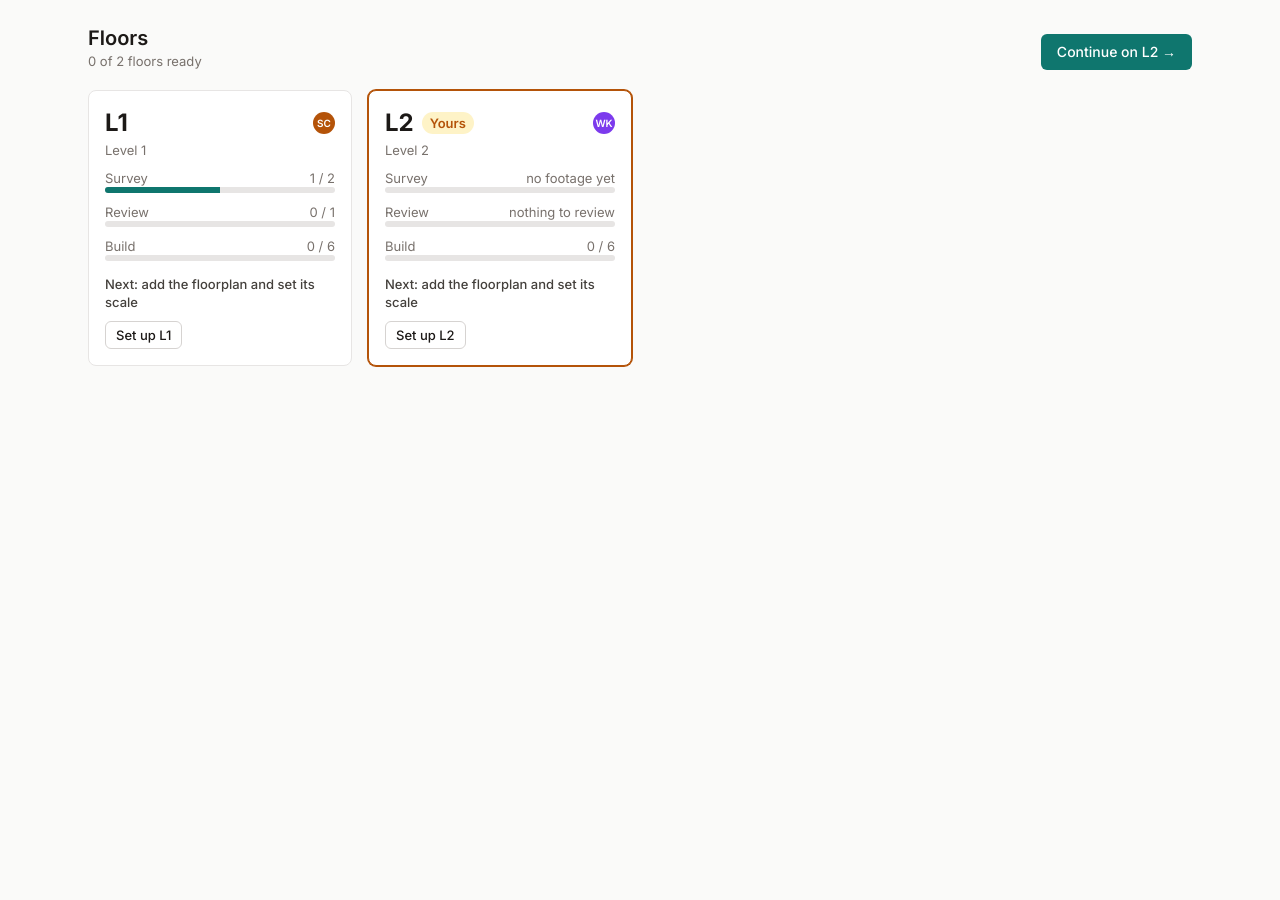
Test: FloorsHome › locks the picker while an owner change is saving, so a quick second tick is not lost
Click the button with aria-label "Owners of L1". click: [324, 123]
box: top-left (313, 112), bottom-right (335, 134)
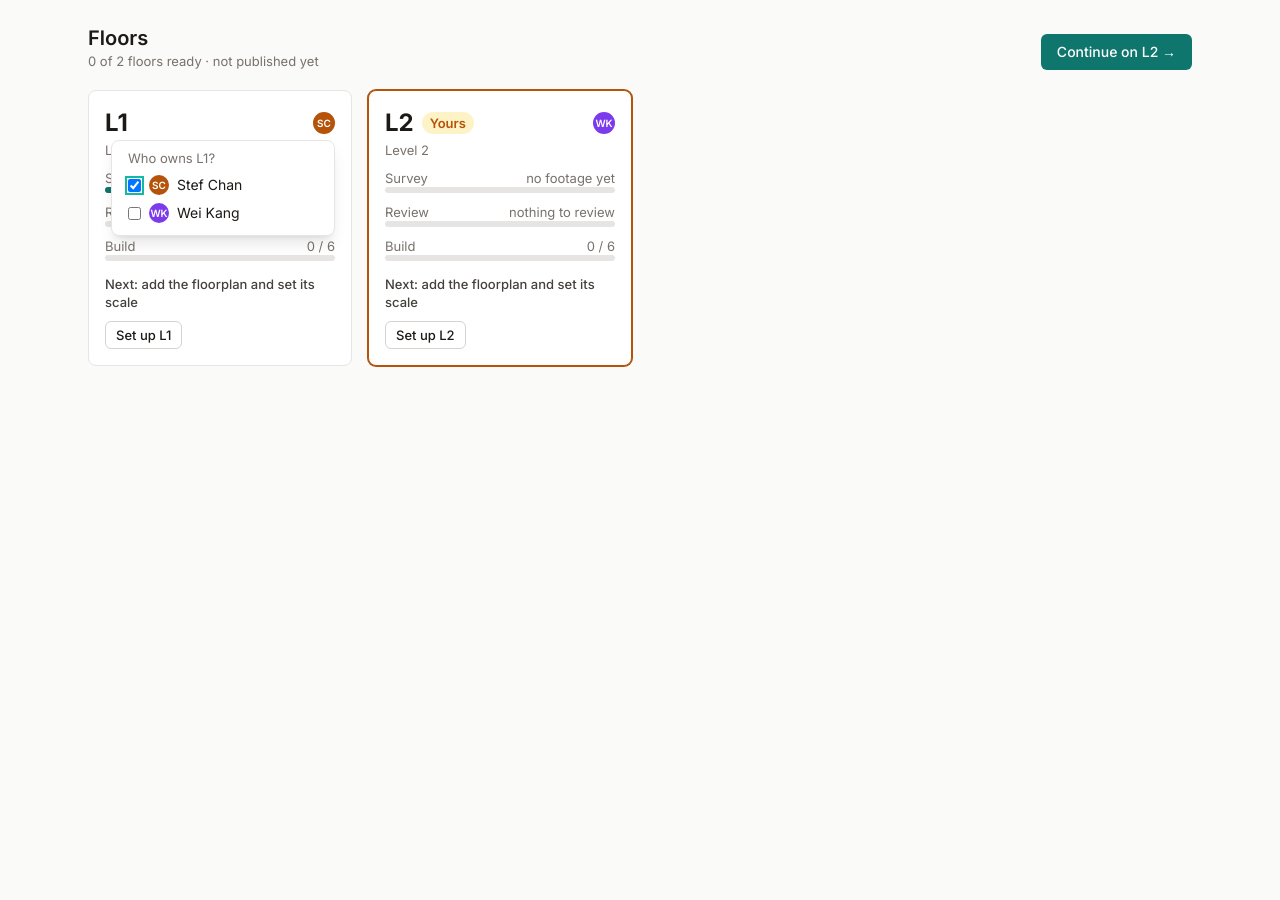
Click the checkbox labelled "Wei Kang". click: [134, 213]
box: top-left (128, 206), bottom-right (141, 220)
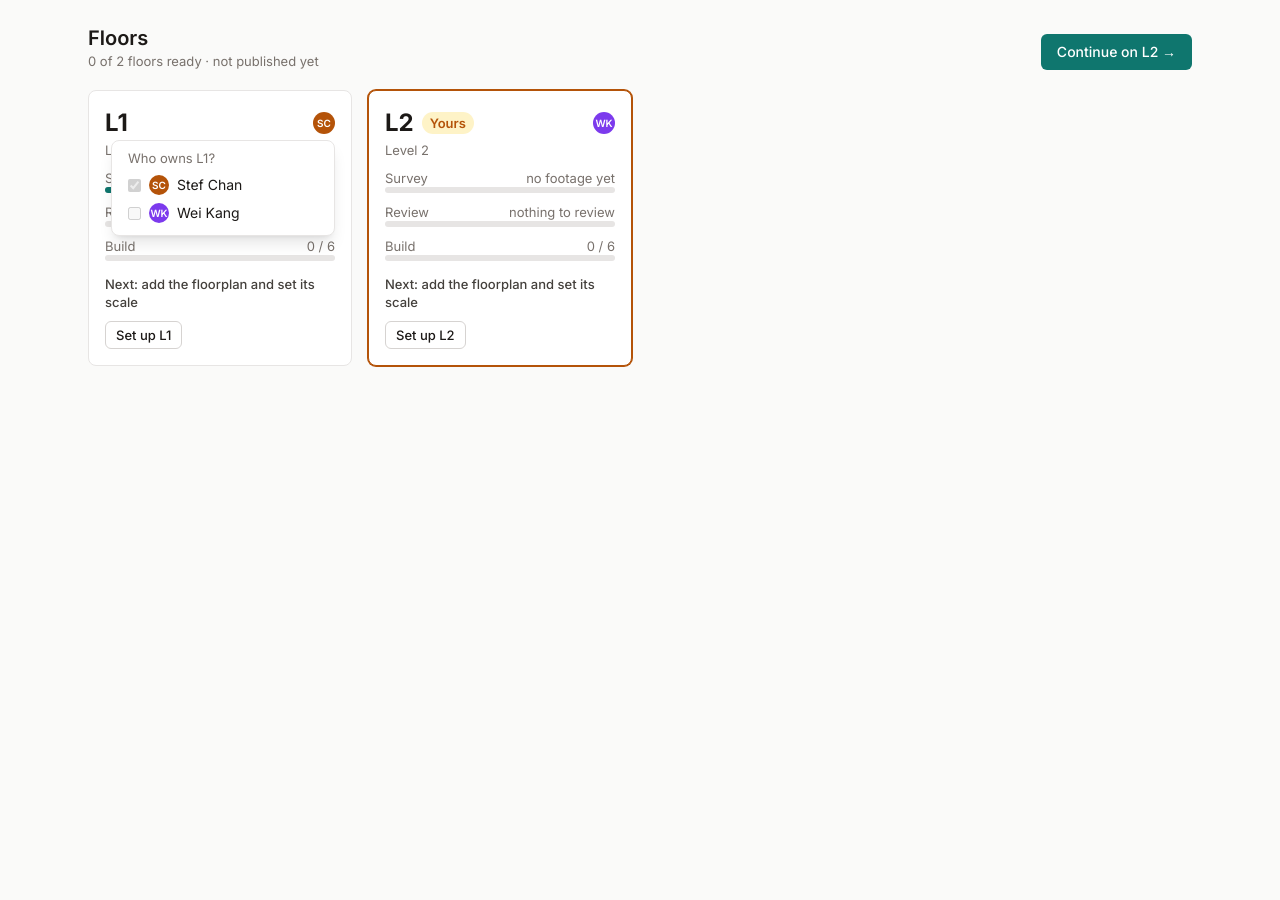
Check: the checkbox labelled "SC Stef Chan" is disabled
Check: the checkbox labelled "WK Wei Kang" is disabled, box top-left (128, 206), bottom-right (141, 220)
Note: ...so a quick second tick does not fire off a second save from stale data.
Click the checkbox labelled "Stef Chan". click: [134, 185]
box: top-left (128, 178), bottom-right (141, 192)
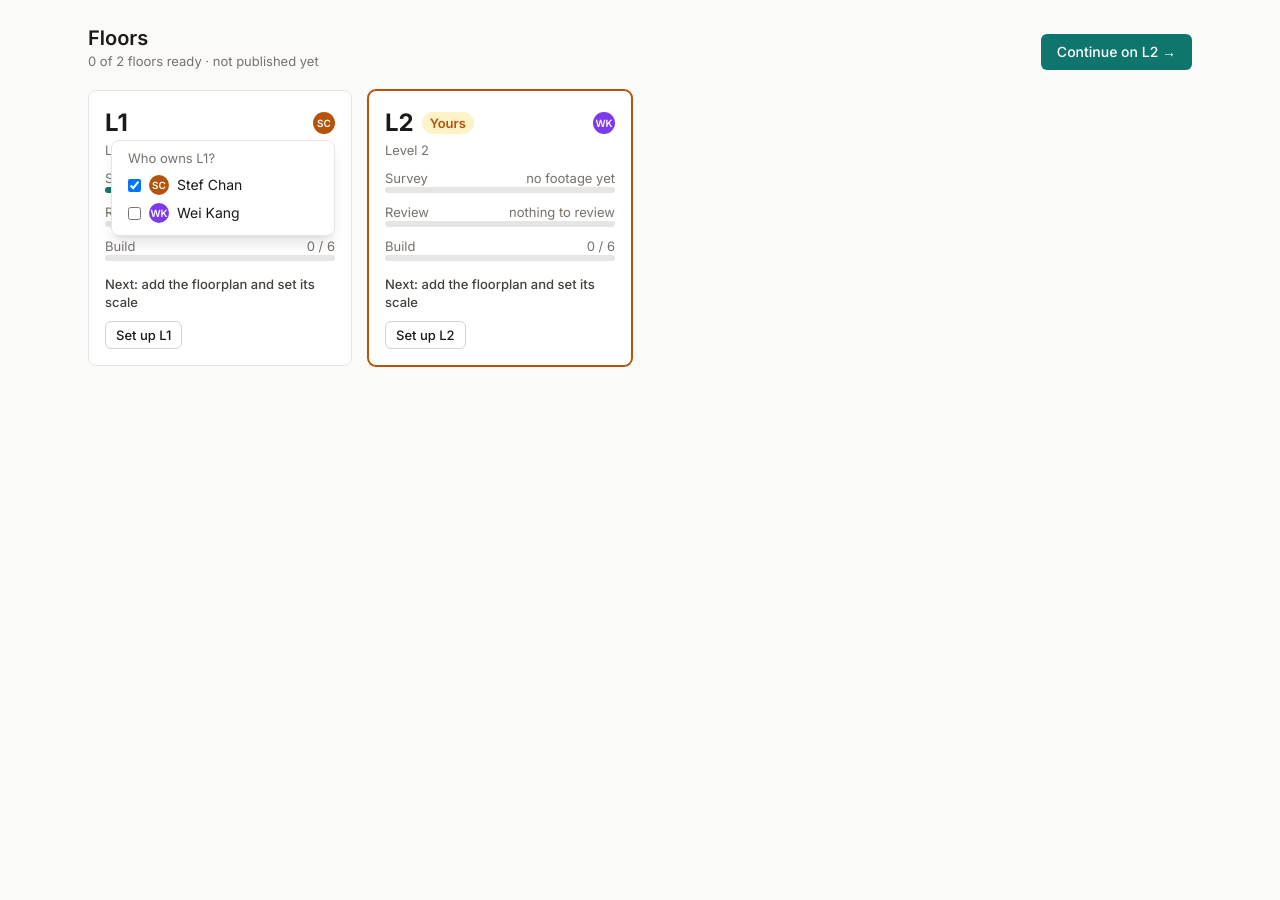
Check: the checkbox labelled "SC Stef Chan" is enabled, box top-left (128, 178), bottom-right (141, 192)
Check: the checkbox labelled "WK Wei Kang" is enabled, box top-left (128, 206), bottom-right (141, 220)
